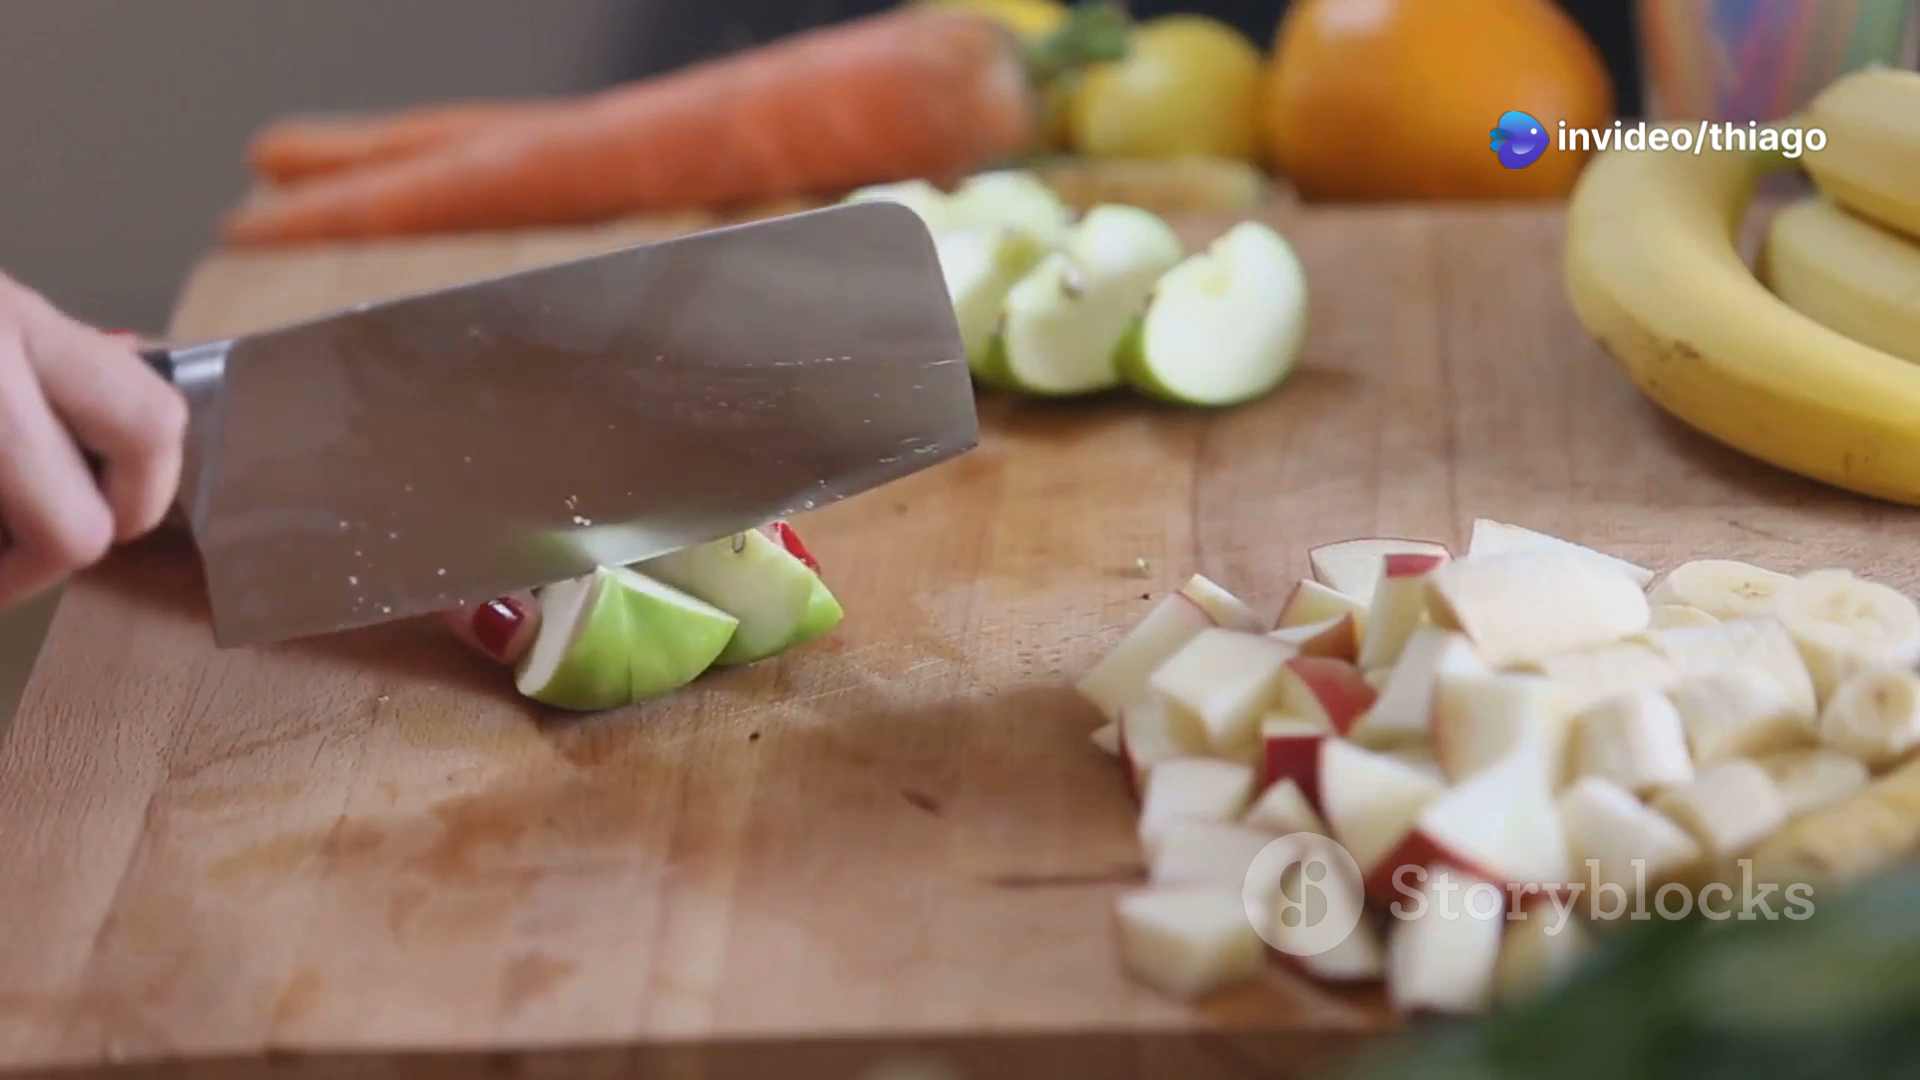cortante: (171, 198, 981, 653)
